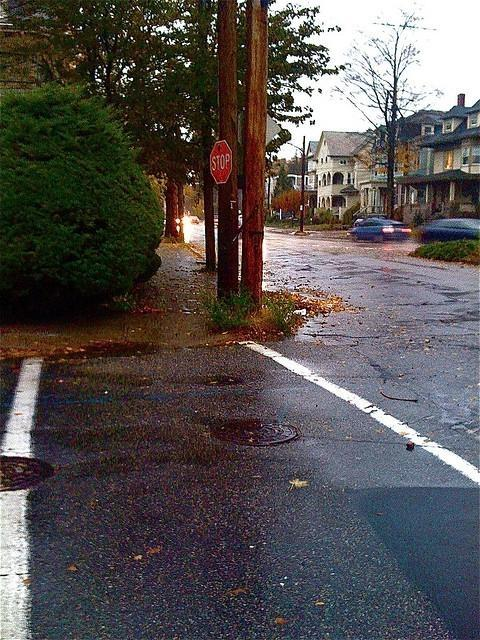car: (348, 218, 414, 243), (422, 219, 480, 243), (188, 216, 200, 225), (214, 213, 219, 227)
